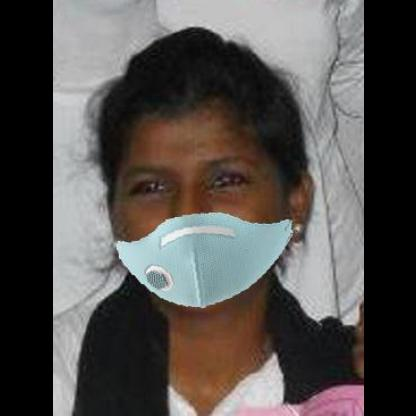FFP Mask: (113, 135, 286, 290)
